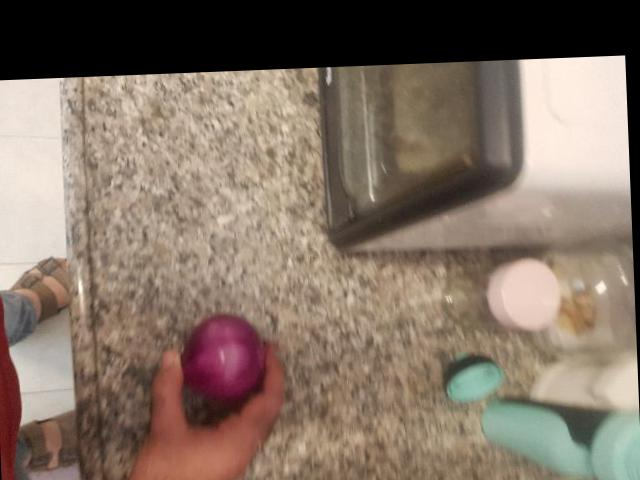onion: (261, 56, 384, 176)
